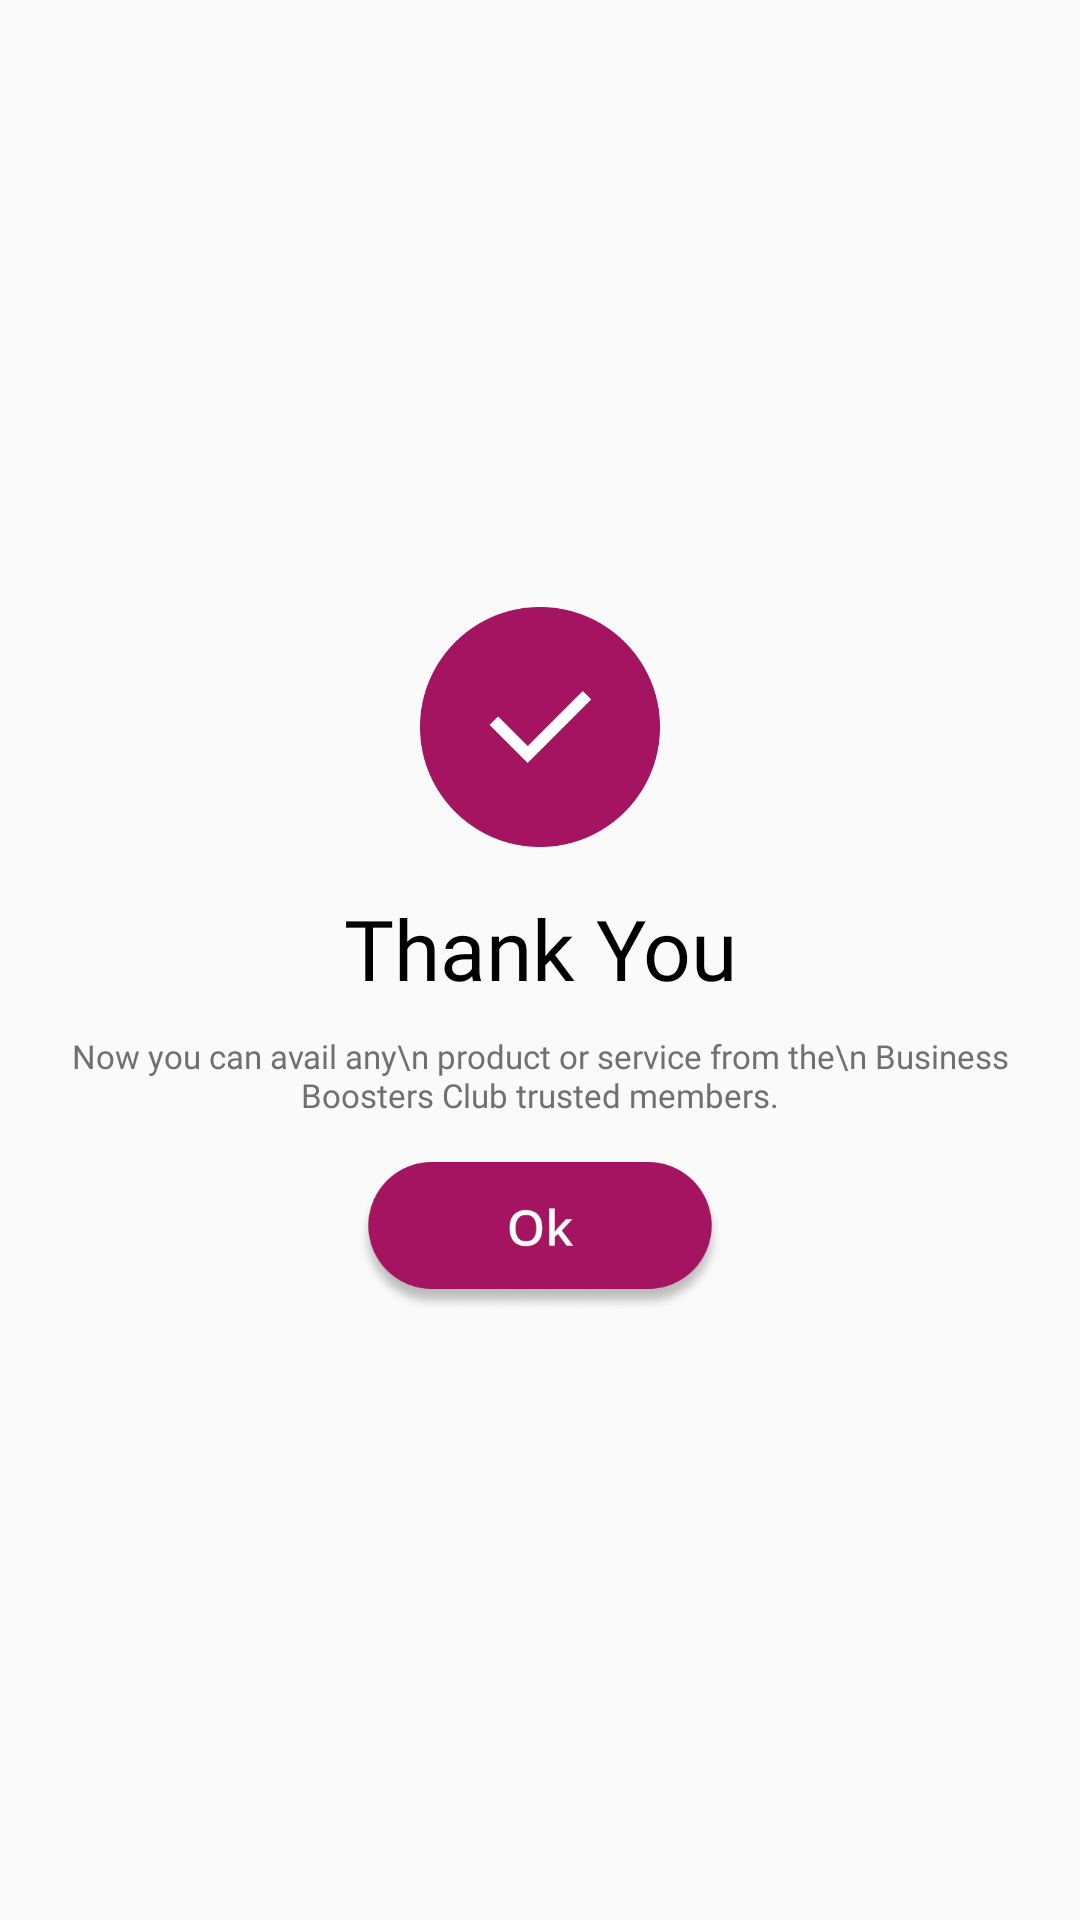

Named icons in this screenshot (1080 × 1920) and their bounding boxes, (x1, y1, x2, y2):
right: (420, 607, 660, 847)
